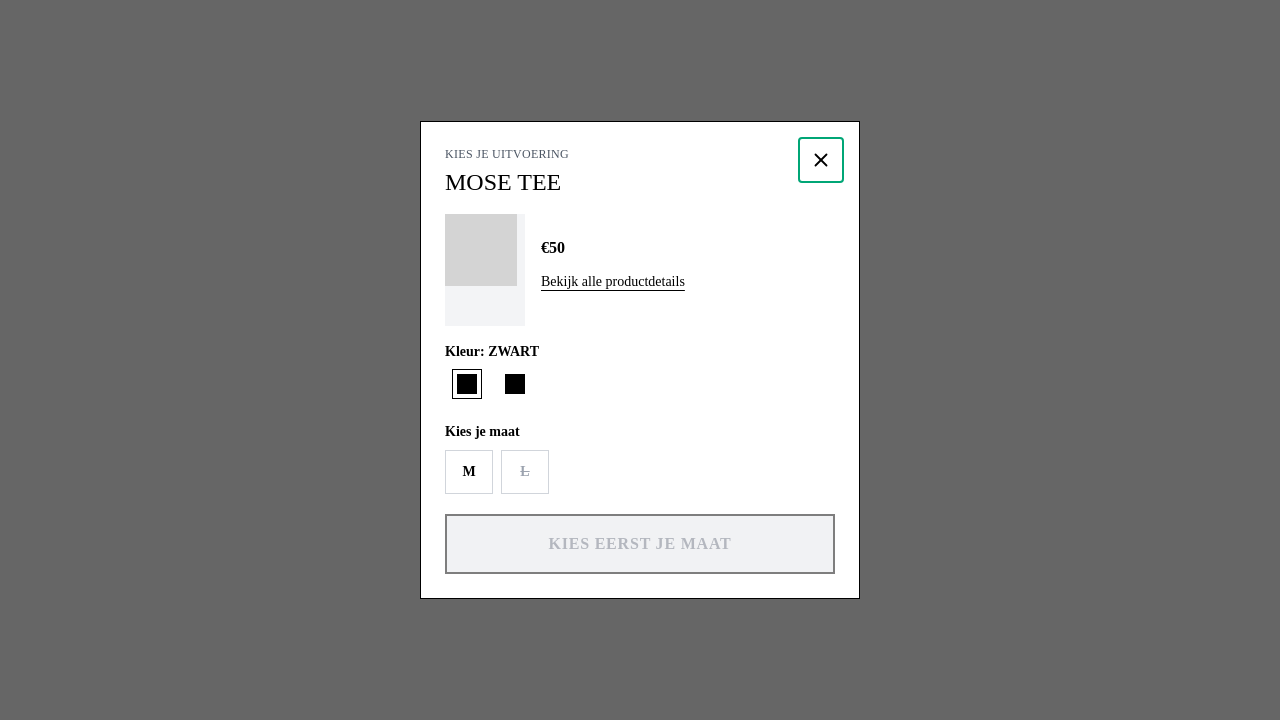
clears the size when colour changes so an unchosen variant is never added
Click the button "M" at (469, 472), box [445, 450, 493, 494]
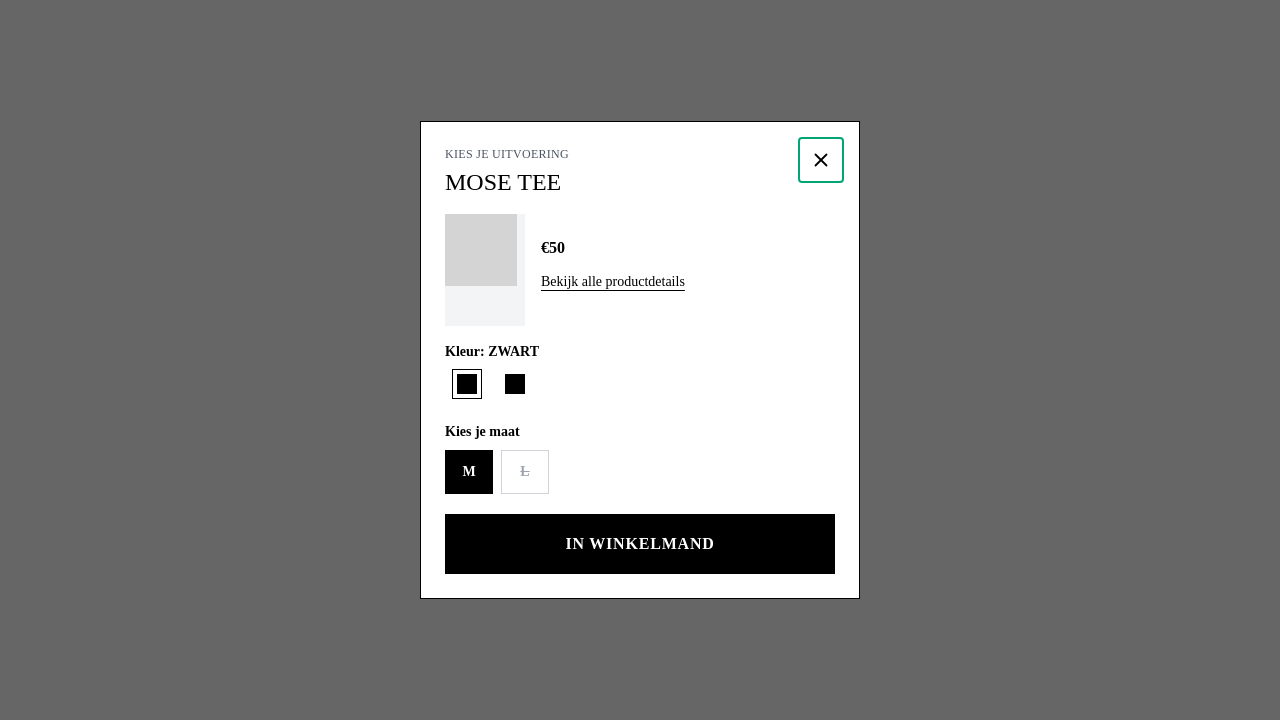
Click the button named "WIT" at (515, 384), box [493, 362, 537, 406]
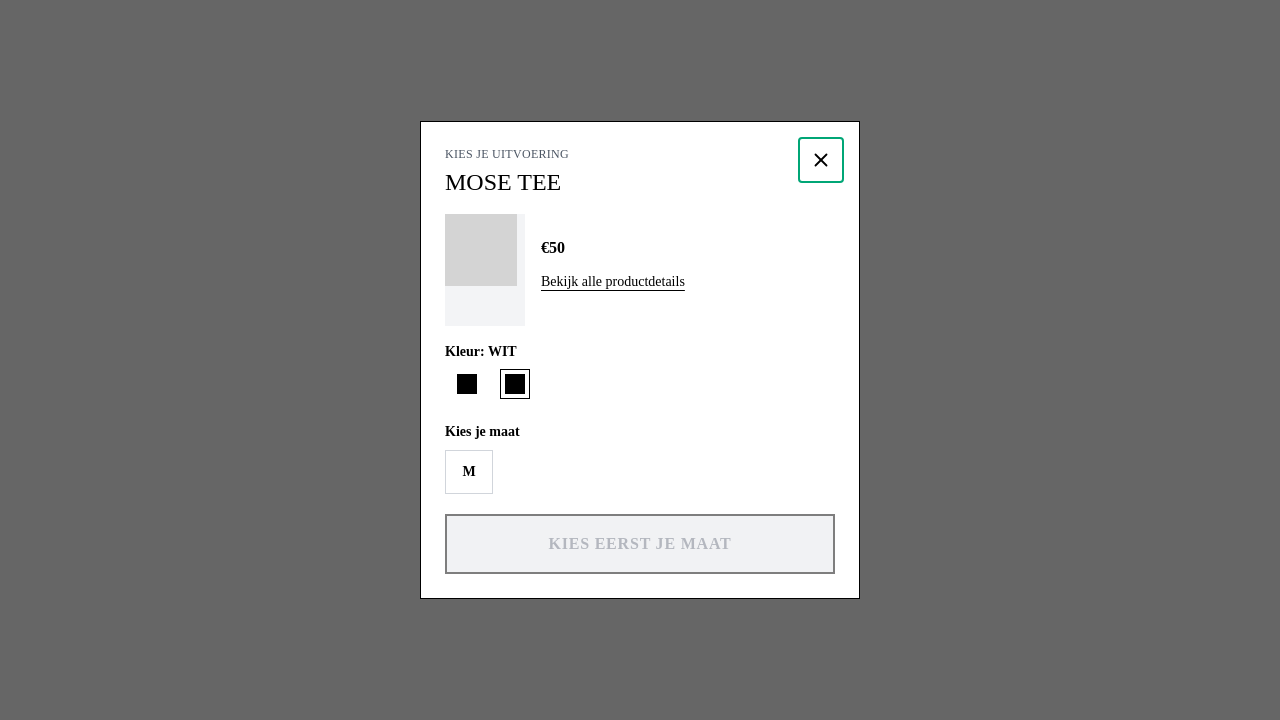
Expected: the button "Kies eerst je maat" is disabled, [445, 514, 835, 574]
